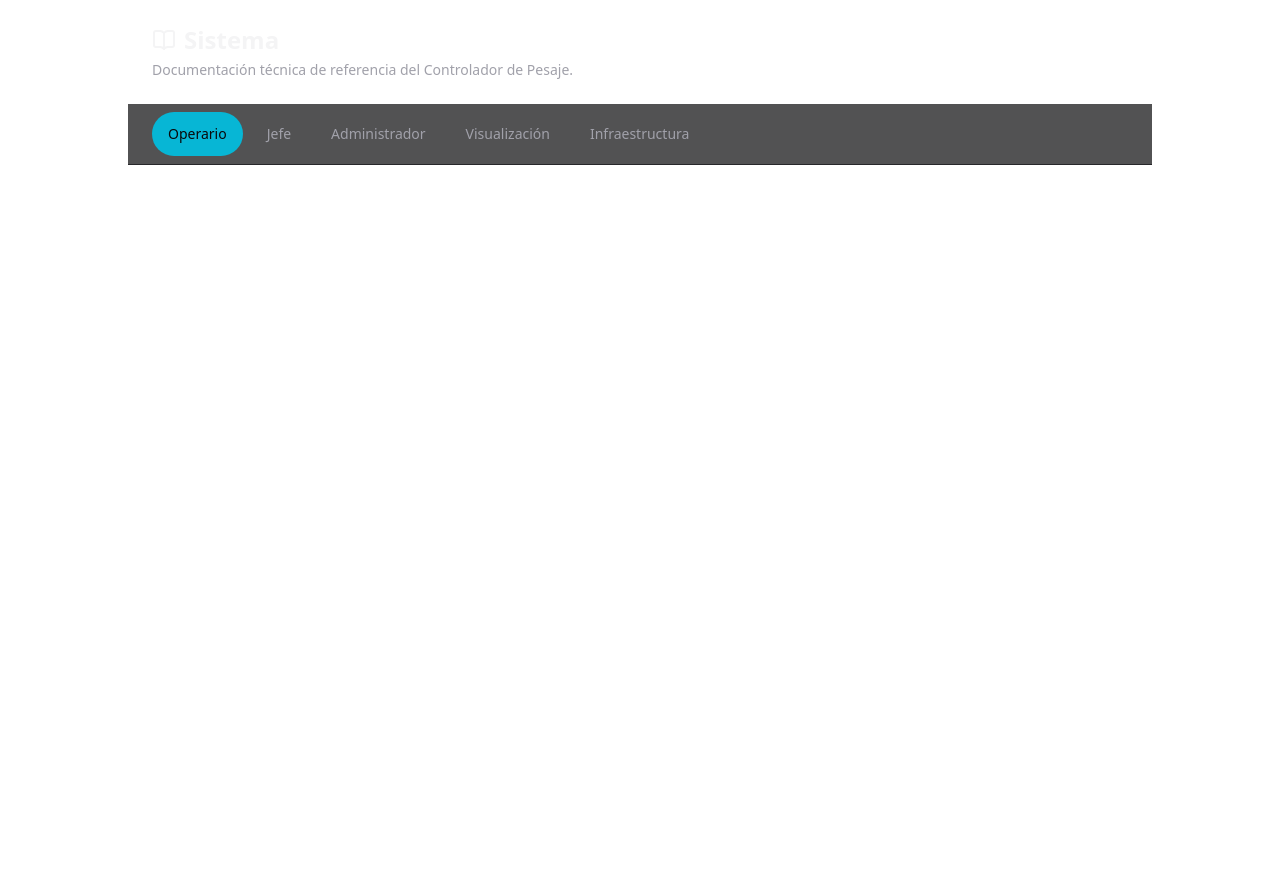
Test: SistemaPage section index › highlights the clicked section immediately, even when the page cannot scroll it to the top
Click the button "Administrador" at x=378, y=134, box x1=315 y1=112 x2=442 y2=156
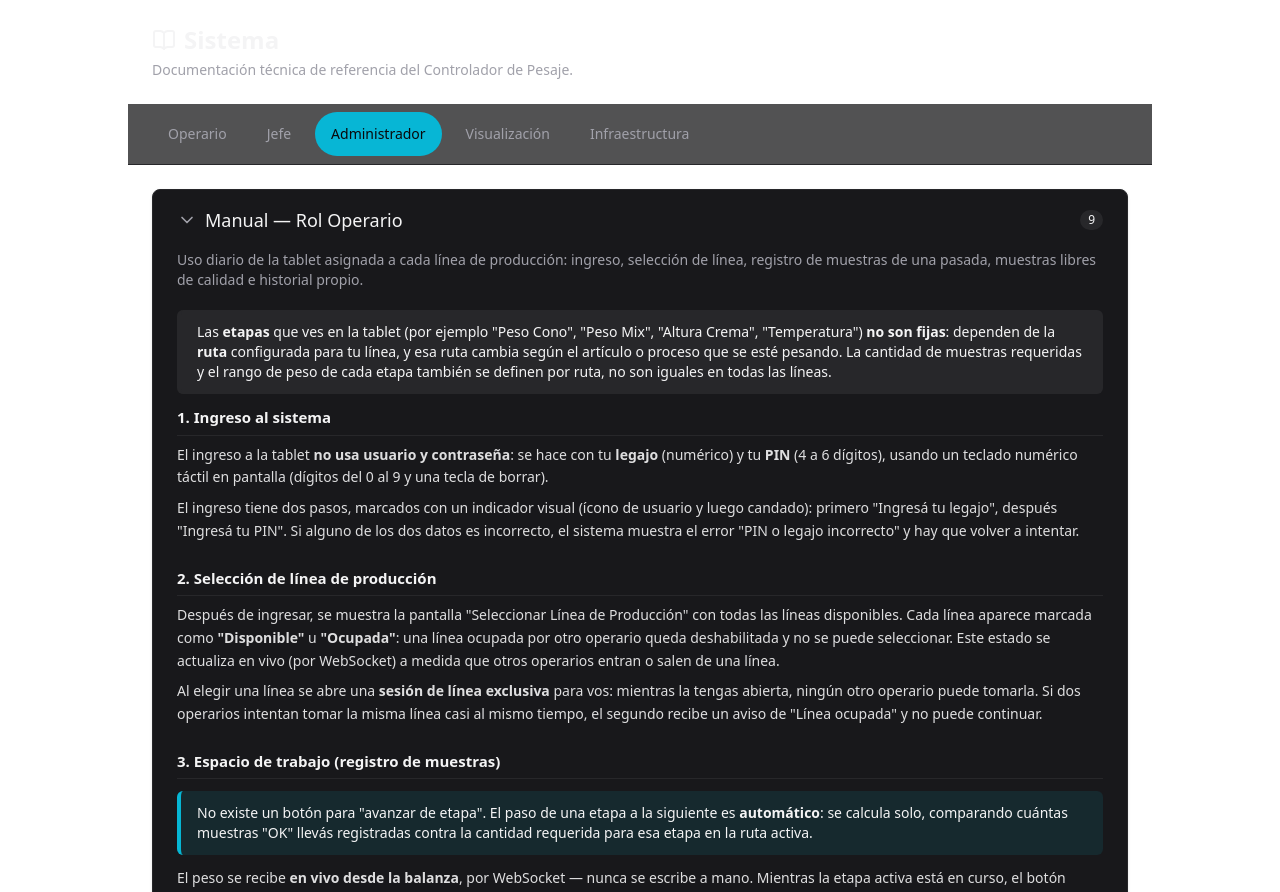
Expected: the button "Administrador" is marked as current, x1=315 y1=112 x2=442 y2=156
Expected: the button "Operario" does not have attribute aria-current, x1=152 y1=112 x2=243 y2=156
